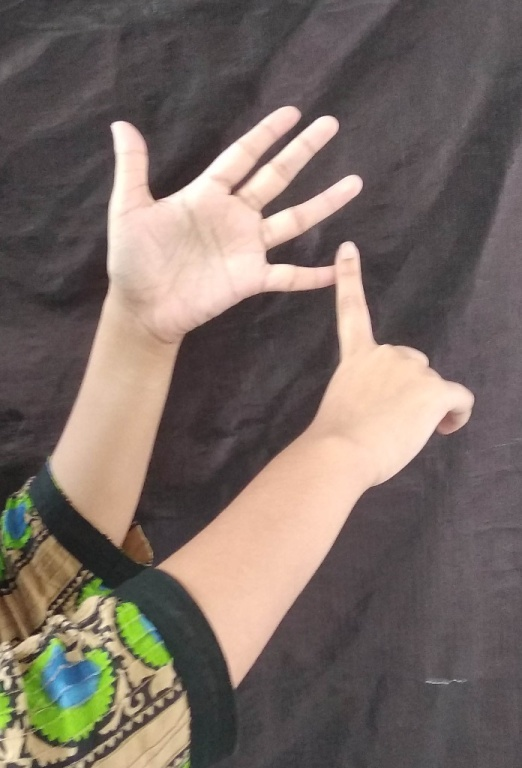i: (98, 106, 426, 385)
